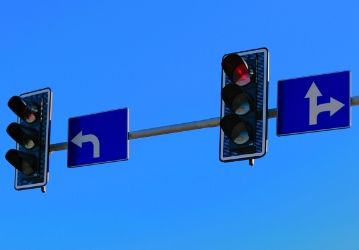ileri_veya_saga: (282, 77, 351, 133)
ileriden_sola: (58, 110, 124, 174)
red_light: (217, 46, 262, 95)
